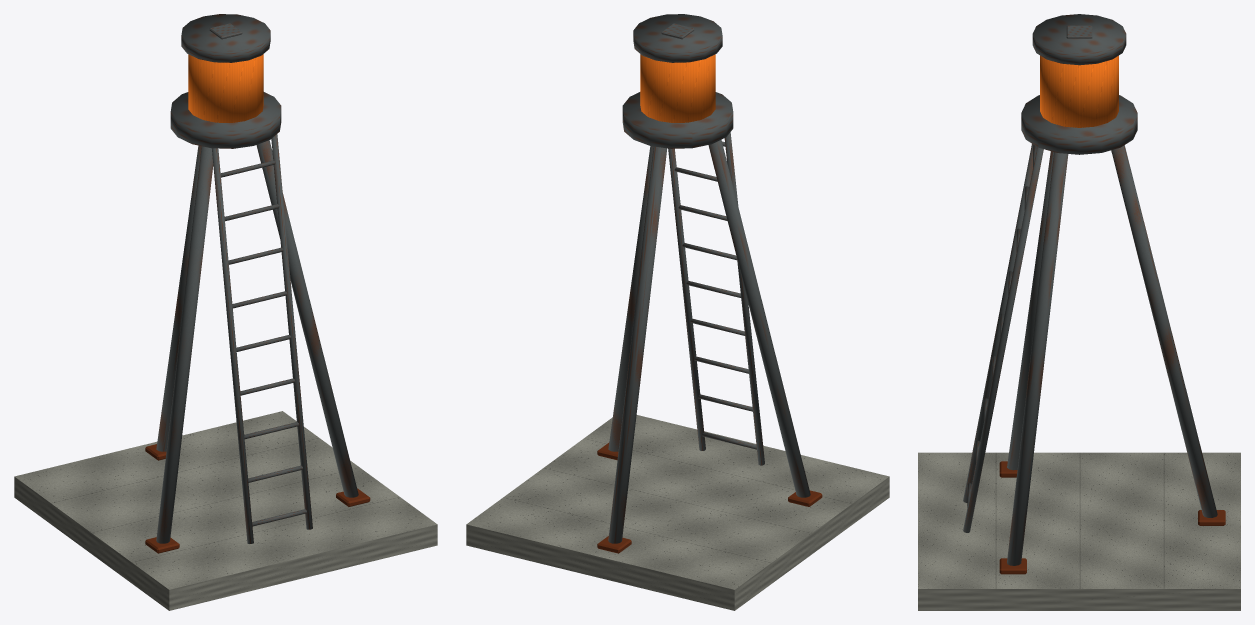
Rendered from extraction_beacon.glb.
3 renders of one model, left to right at view 1: azimuth 30°, elevation 25°; view 2: azimuth 150°, elevation 25°; view 3: azimuth 270°, elevation 25°, orthographic. The views are drawn at different scales.
Visible parts, largest first — view 1: extraction_beacon; view 2: extraction_beacon; view 3: extraction_beacon.
Part boxes in pixels (box(x1,y1,x2,y2)): extraction_beacon: box(14, 14, 437, 610); extraction_beacon: box(466, 14, 889, 610); extraction_beacon: box(918, 14, 1240, 610).
Size of the model in its own units: 2 by 3.5 by 2.
Materials: 1 (1 with a texture image).
